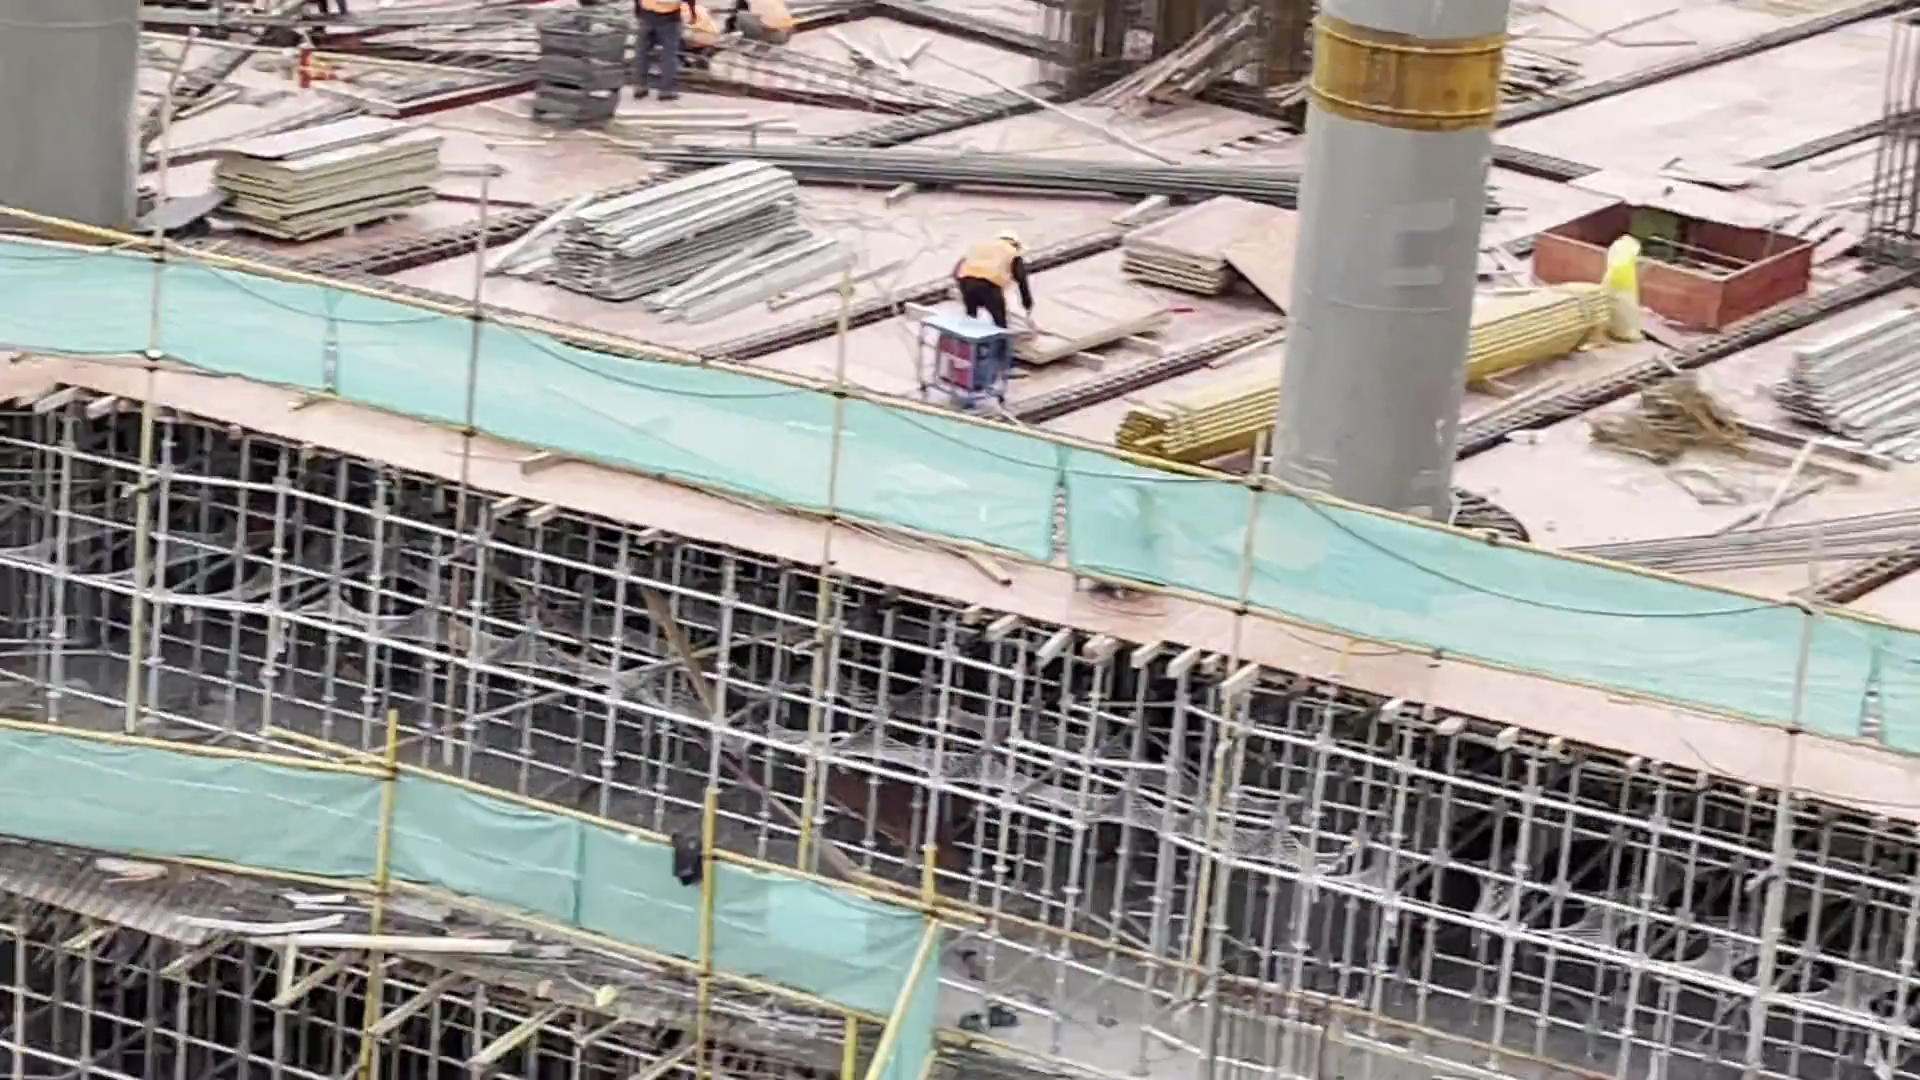person: (949, 223, 1035, 334), (626, 1, 688, 106), (680, 1, 720, 72), (719, 1, 788, 41)
vest: (957, 238, 1019, 293), (750, 1, 795, 33)
